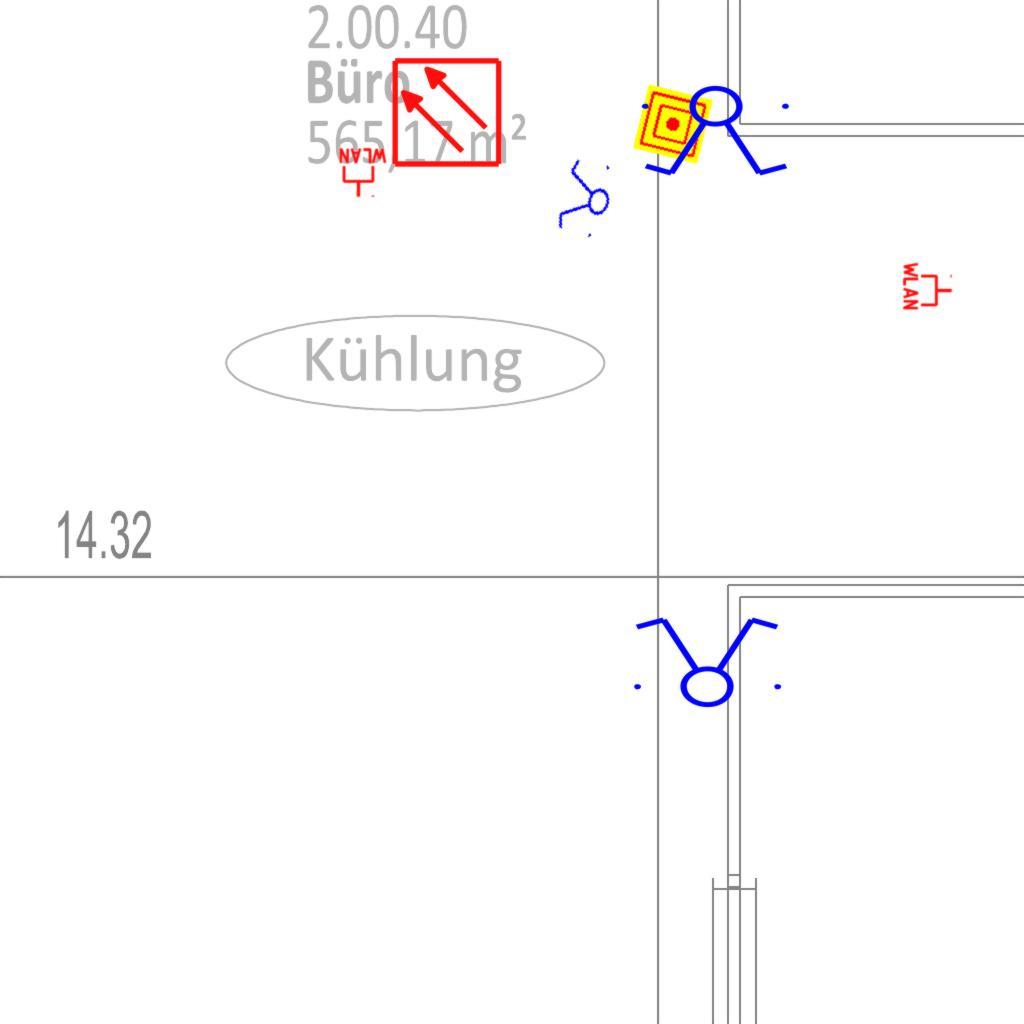NAM-Nichtautomatischer_Melder: (632, 83, 714, 165)
RMO_Rauchmelder_optischer: (390, 56, 503, 169)
Serienschalter: (622, 613, 790, 709), (633, 84, 801, 180), (551, 152, 621, 246)
WLAN: (337, 147, 389, 199), (902, 260, 954, 312)
